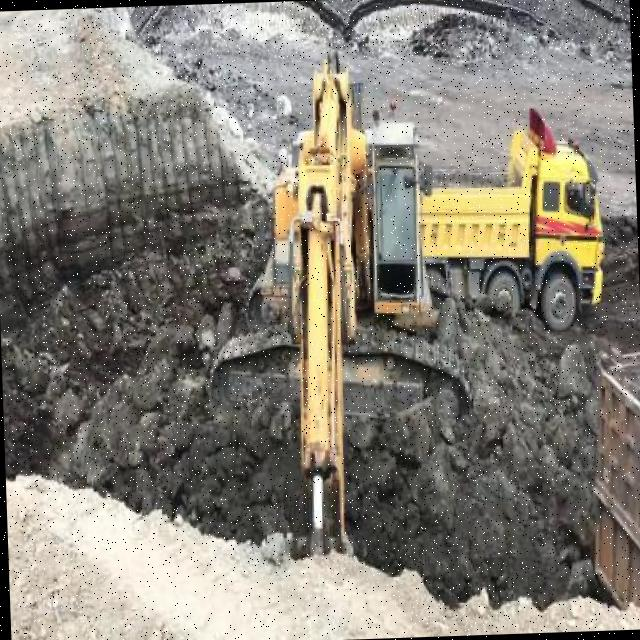Dump Truck: (424, 99, 607, 329)
Excavator: (202, 48, 477, 566)
